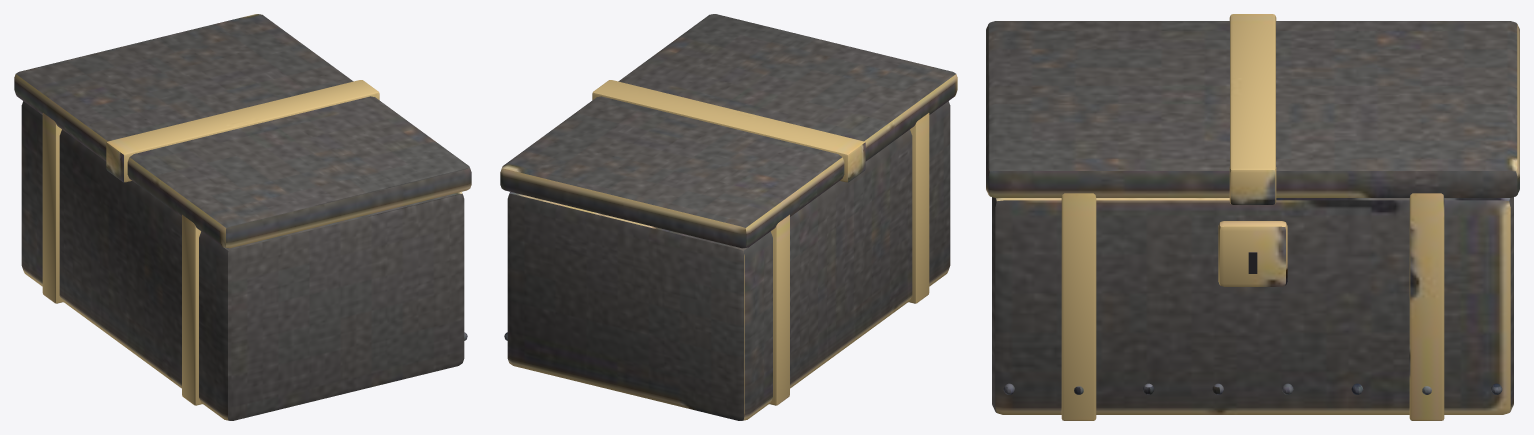
File: cache.glb
3 views of the same model, side by side, from view 1: azimuth 30°, elevation 25°; view 2: azimuth 150°, elevation 25°; view 3: azimuth 270°, elevation 25° (orthographic). The views are drawn at different scales.
Parts seen in each view (by area): view 1: box, lid, lid_band, band0.3, band-0.3; view 2: box, lid, lid_band, band-0.3, band0.3; view 3: box, lid, lid_band, band0.3, band-0.3, lock.
Part boxes in pixels (<box>): box: <box>21,101,464,420</box>; lid: <box>14,14,471,248</box>; lid_band: <box>106,80,379,182</box>; band0.3: <box>42,113,63,303</box>; band-0.3: <box>182,214,202,405</box>; box: <box>507,101,950,420</box>; lid: <box>500,14,957,248</box>; lid_band: <box>592,80,865,182</box>; band-0.3: <box>908,113,929,303</box>; band0.3: <box>769,214,789,405</box>; box: <box>992,197,1513,414</box>; lid: <box>986,21,1519,197</box>; lid_band: <box>1229,14,1276,204</box>; band0.3: <box>1409,193,1444,420</box>; band-0.3: <box>1061,193,1096,420</box>; lock: <box>1218,221,1287,286</box>.
Bounding box in the file's own units: 0.6475 × 0.485 × 0.92.
Materials: 1 (1 with a texture image).
